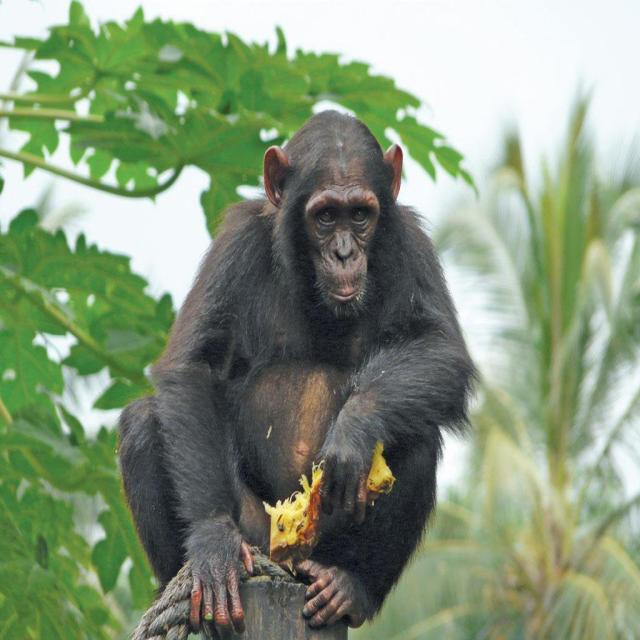Chimpanzee: (113, 105, 470, 622)
